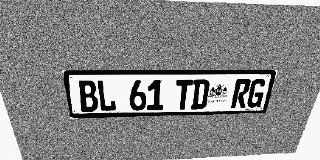1: (147, 80, 164, 110)
6: (129, 80, 146, 111)
B: (77, 80, 99, 112)
D: (191, 79, 210, 109)
G: (245, 79, 267, 108)
L: (96, 80, 116, 111)
R: (230, 79, 252, 108)
T: (174, 79, 193, 110)
